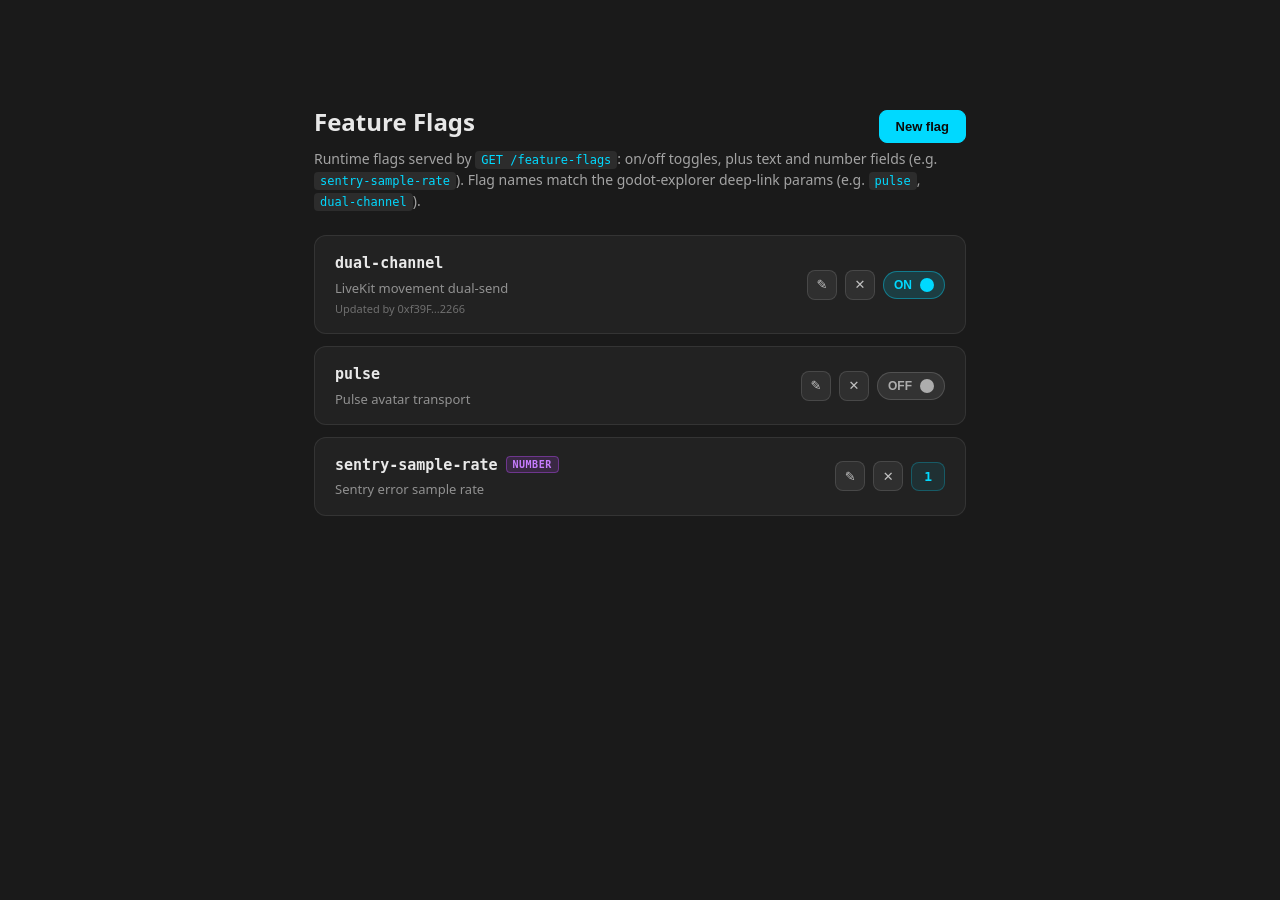
FeatureFlagsPage › opens a confirm dialog when toggling and does nothing on cancel
Click the switch named "Toggle pulse": (911, 386) [877,372,945,400]
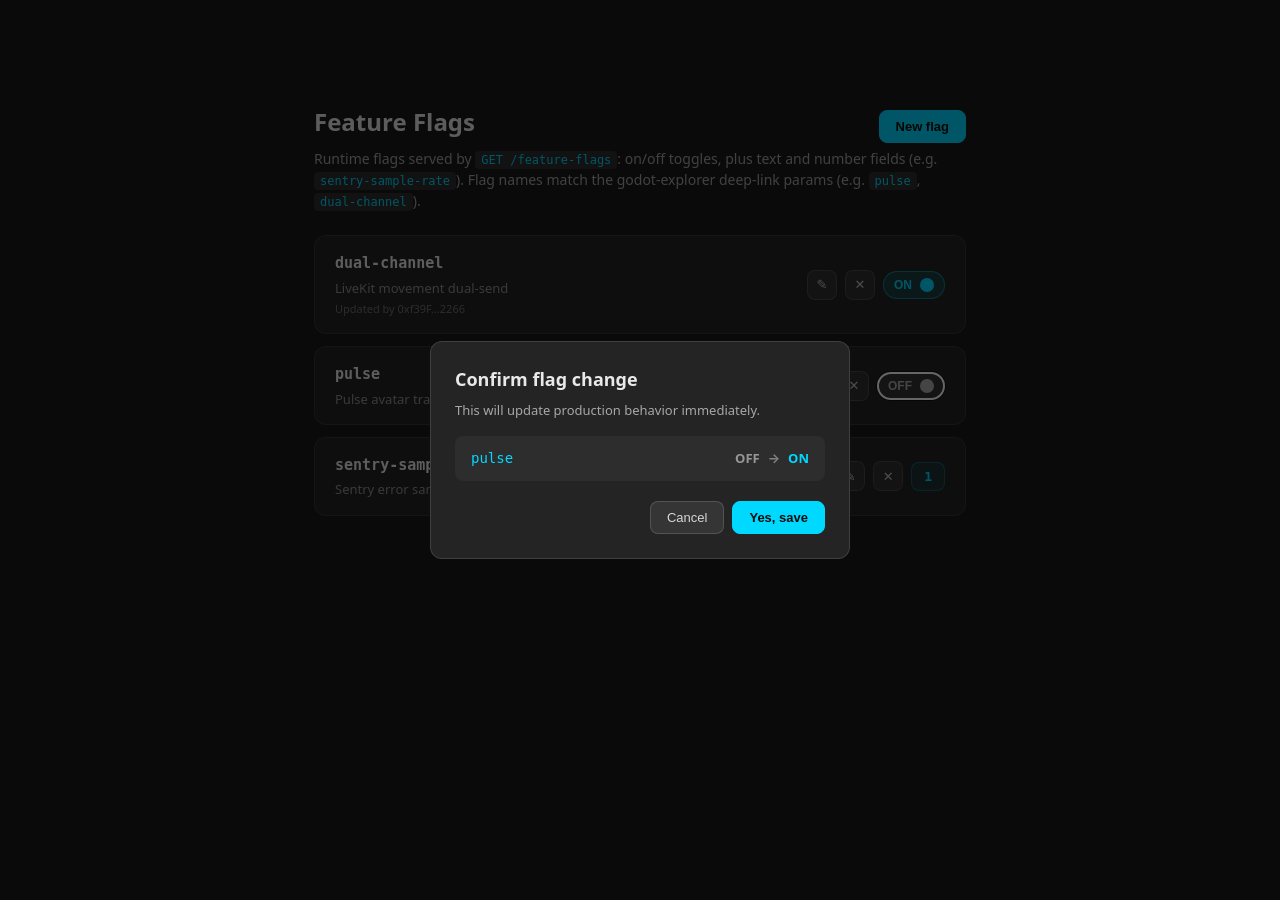
Expected: the dialog shows "pulse", [471,450,513,466]
Expected: the dialog shows "OFF", [735,449,760,467]
Expected: the dialog shows "on", [788,449,809,467]
Click the button "Cancel": (687, 518) [650,501,724,534]
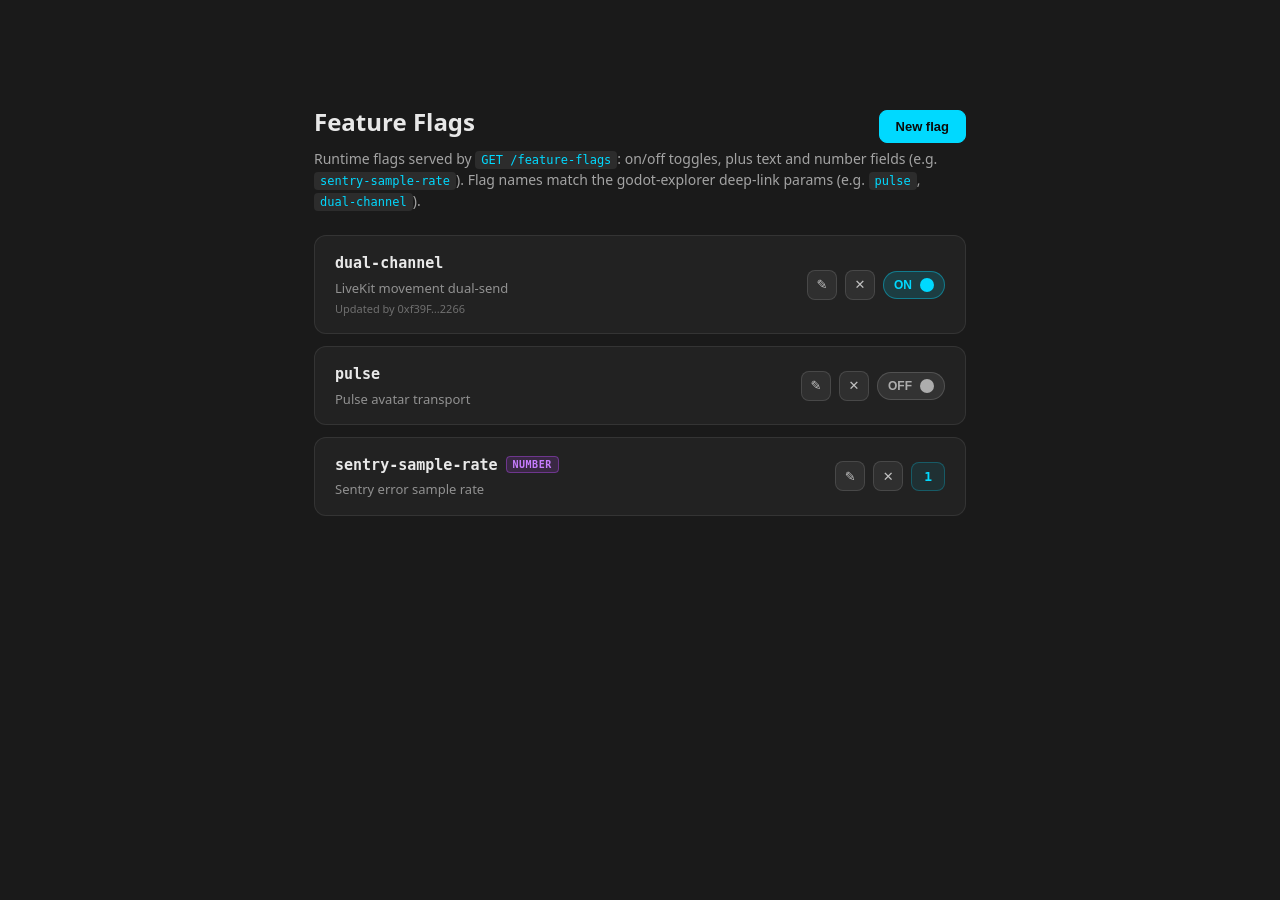
Expected: the dialog is gone
